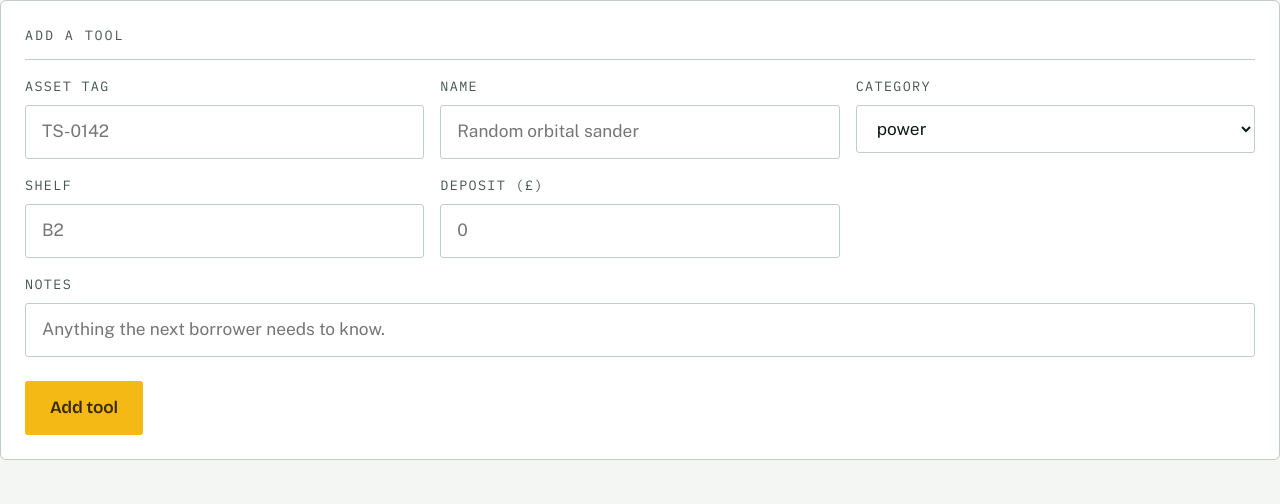
Scenario: AddToolForm — submitting › keeps what you typed when the server rejects it, and shows the field errors
Type "nope" into the field labelled "Asset tag" at (225, 132), box [25, 105, 424, 159]
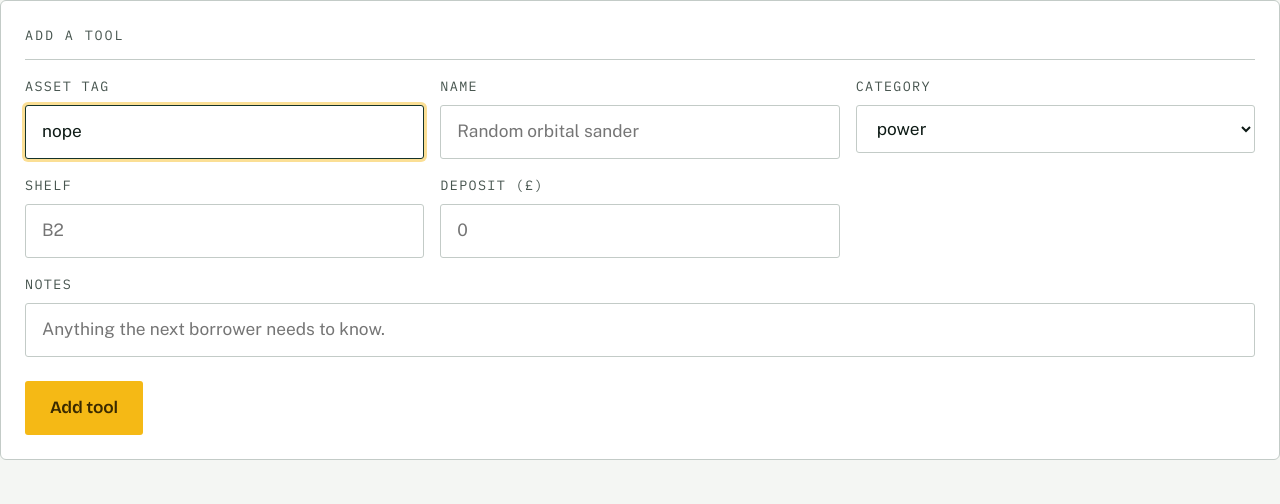
Type "Steamer" into the field labelled "Name" at (640, 132), box [440, 105, 840, 159]
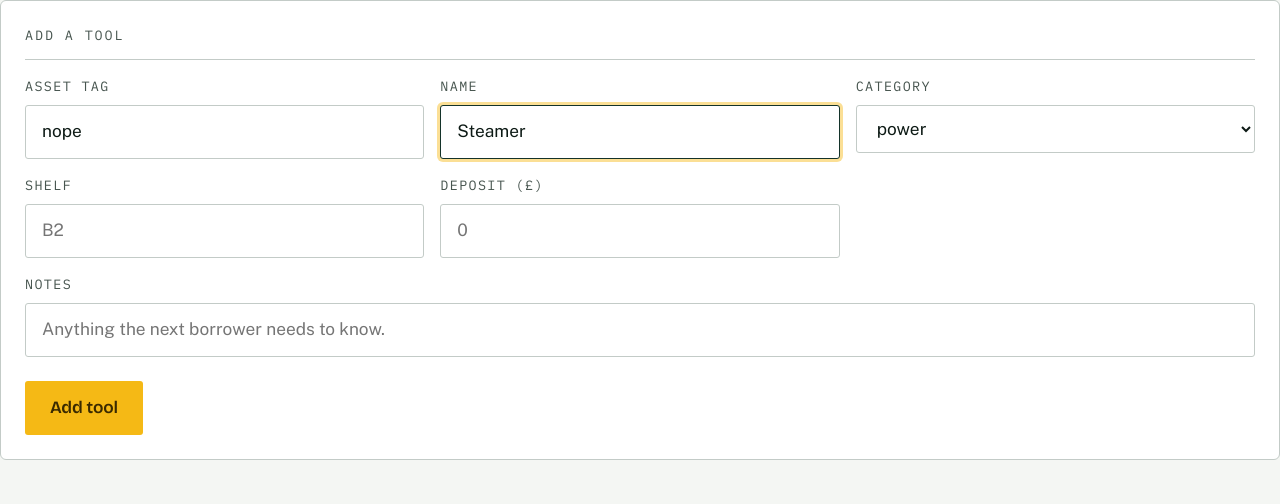
Type "C3" into the field labelled "Shelf" at (225, 231), box [25, 204, 424, 258]
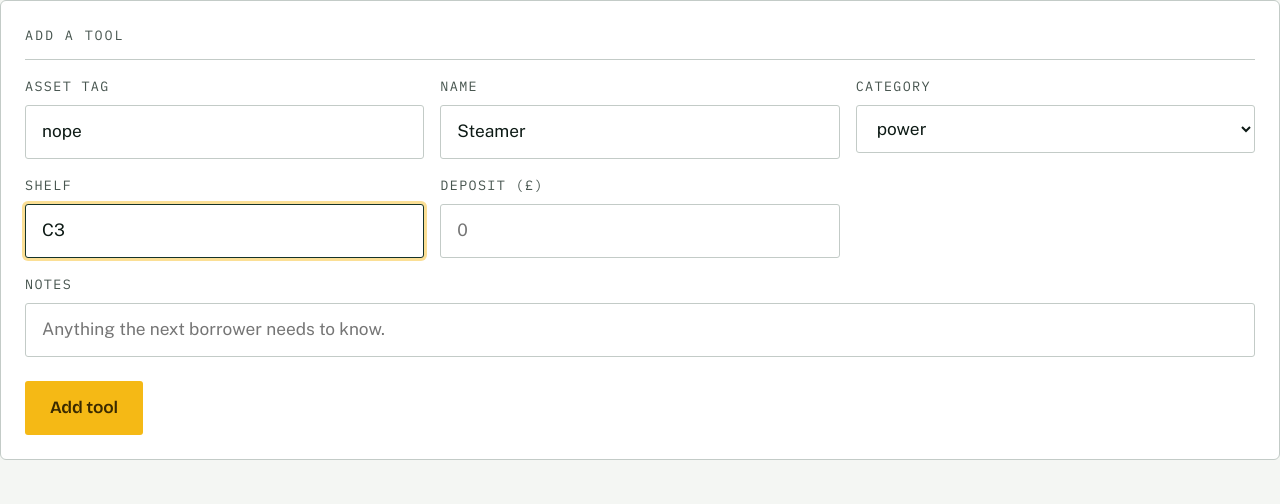
Click the button "Add tool" at (84, 408), box [25, 381, 143, 434]
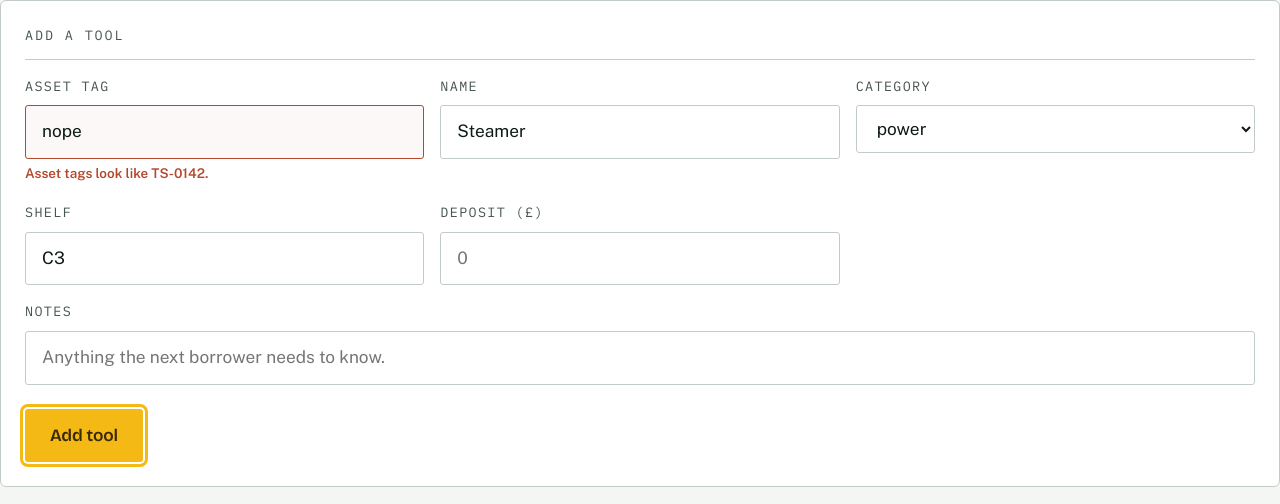
Check: the text "Asset tags look like TS-0142." is shown, box [25, 165, 208, 181]
